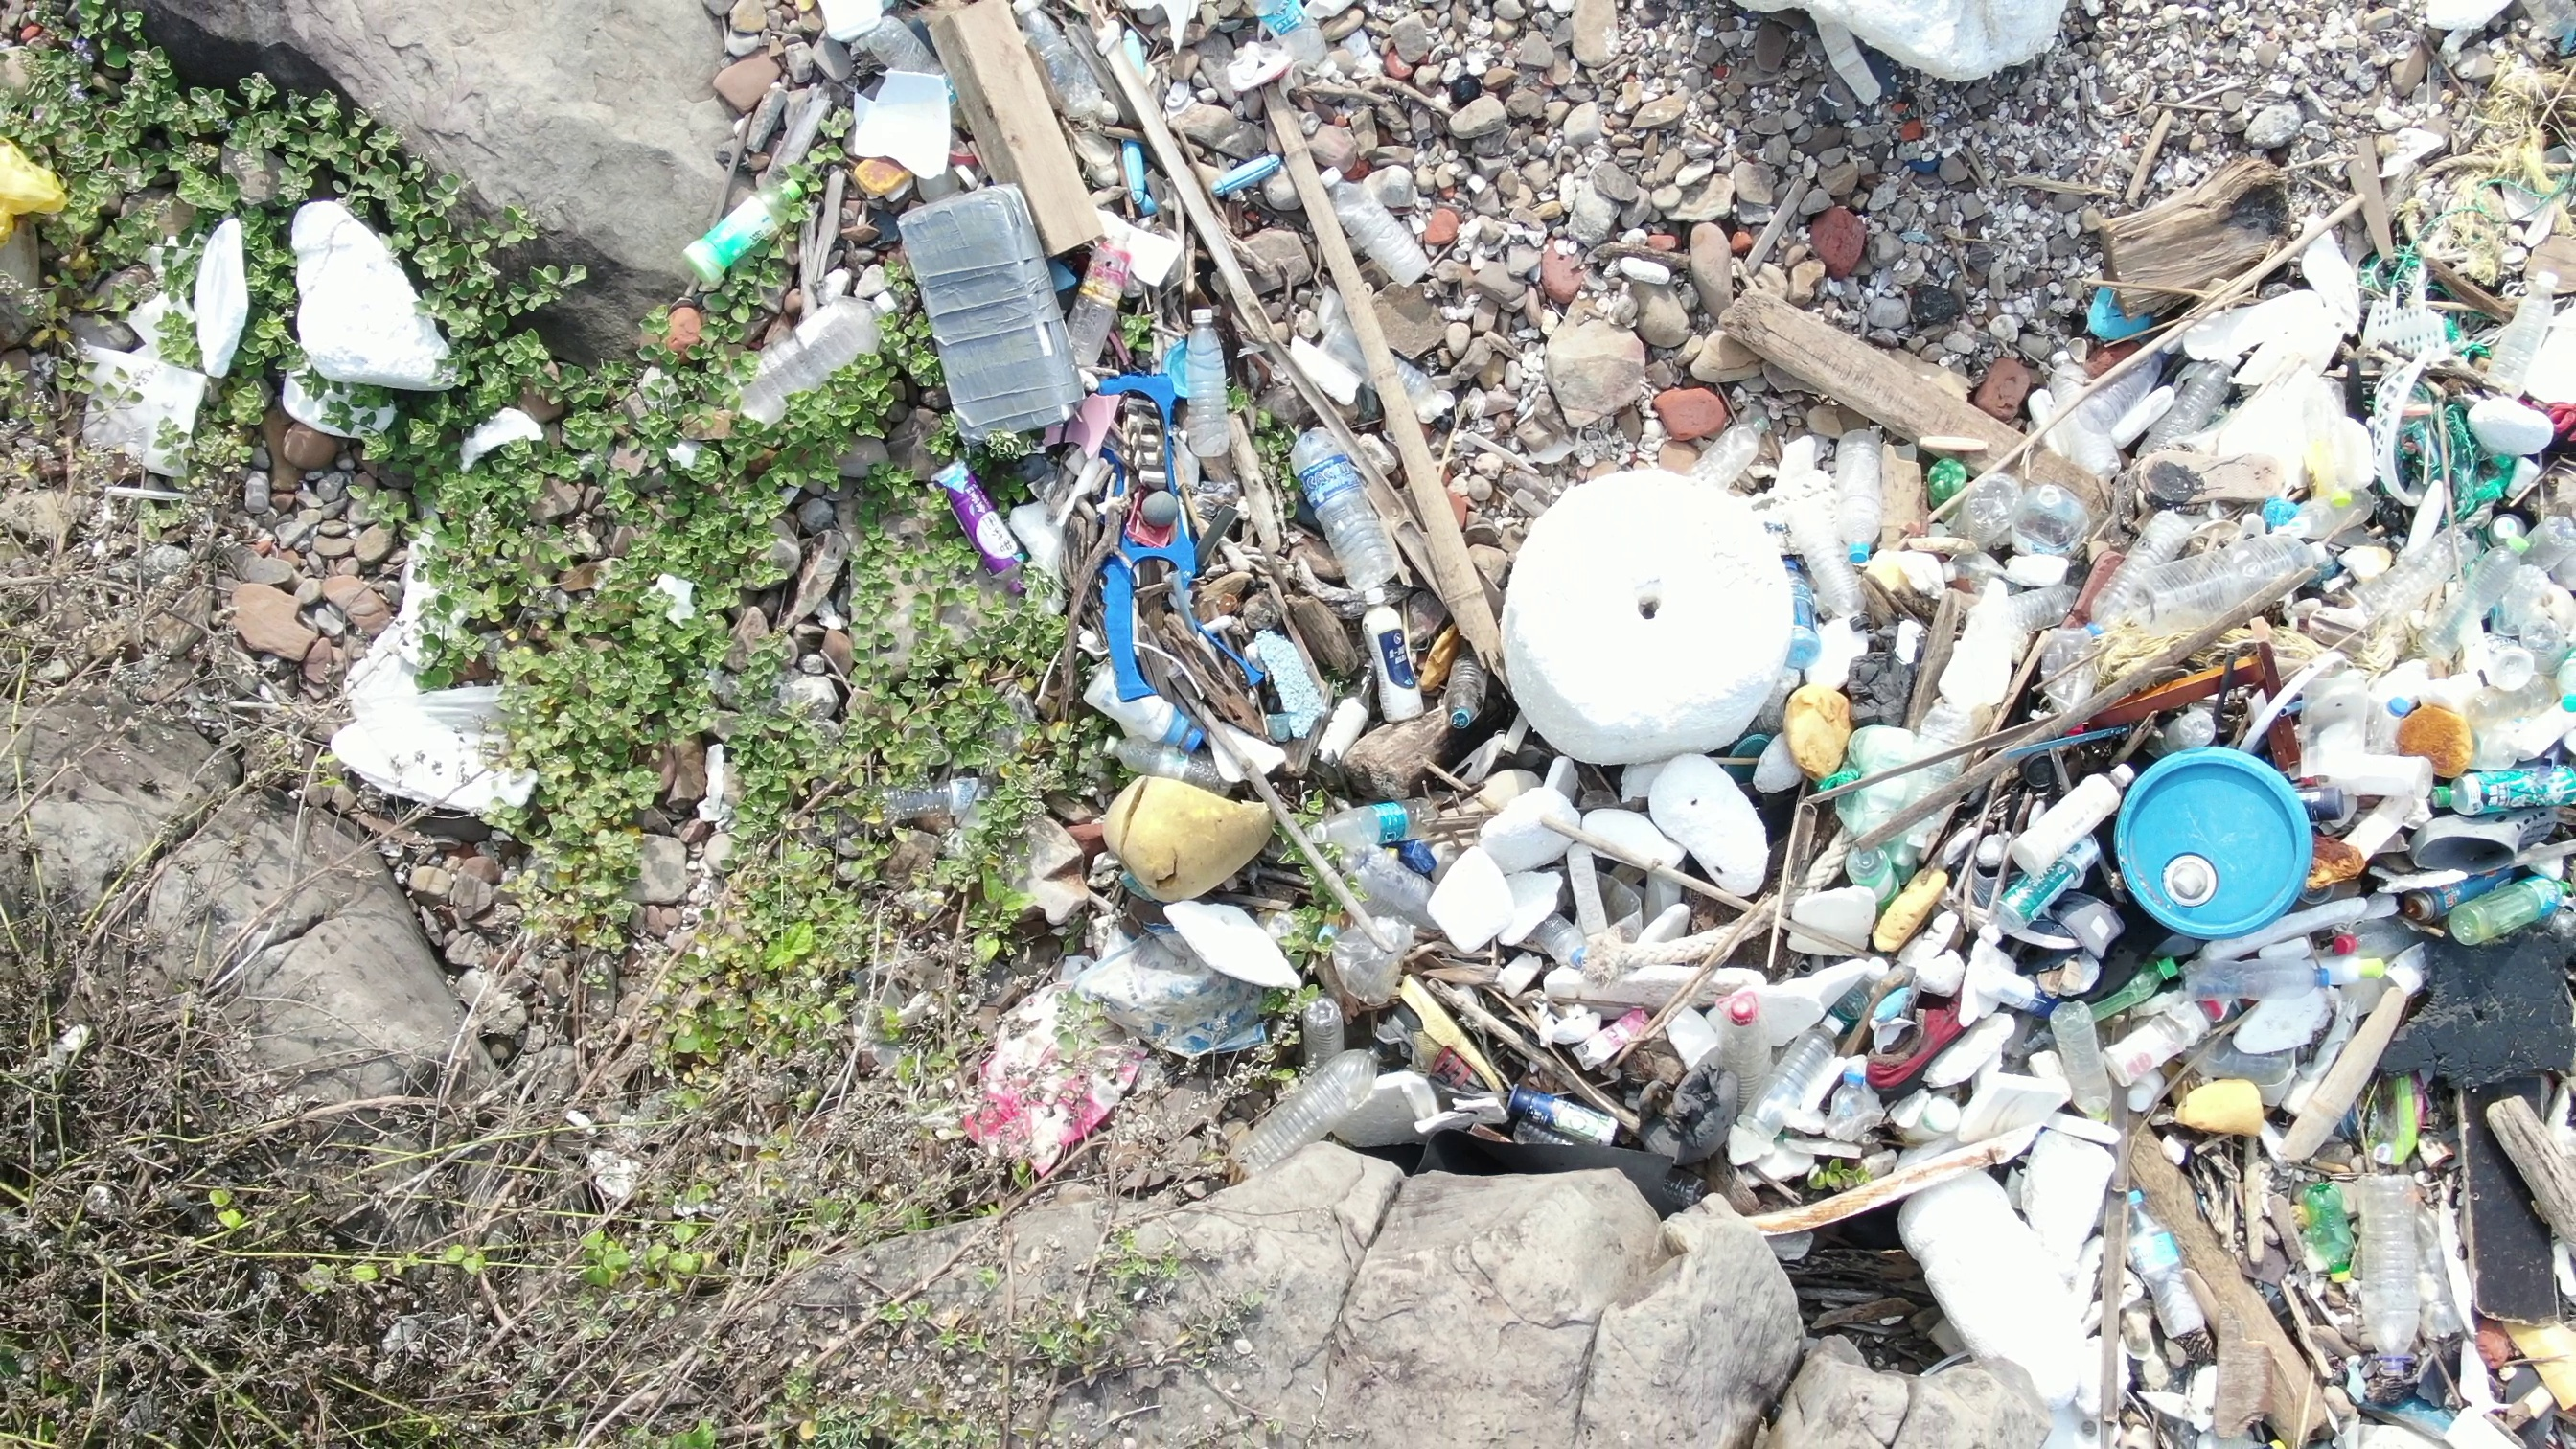bottle: (2089, 527, 2351, 653), (1226, 1035, 1401, 1182), (727, 287, 913, 423), (1284, 423, 1407, 600), (2348, 1166, 2440, 1385), (2111, 1175, 2219, 1357), (1999, 754, 2139, 870), (1315, 168, 1444, 287), (2434, 525, 2548, 660), (927, 460, 1031, 594), (681, 173, 810, 280), (1074, 663, 1214, 759), (1056, 228, 1139, 387), (1760, 1007, 1861, 1136), (2139, 357, 2249, 467), (1350, 577, 1430, 727), (1997, 832, 2116, 931), (2063, 941, 2196, 1030), (2447, 870, 2576, 945), (1093, 722, 1231, 789), (2051, 994, 2118, 1131), (2420, 764, 2576, 823), (1175, 295, 1231, 455), (1235, 2, 1339, 85), (1835, 418, 1890, 573), (2180, 950, 2339, 1003), (1293, 801, 1451, 853), (1776, 531, 1824, 671), (2328, 913, 2445, 968), (1445, 614, 1491, 738), (1721, 991, 1775, 1093), (2305, 1166, 2357, 1272), (1840, 835, 1902, 915), (1300, 1000, 1355, 1074), (1925, 451, 1973, 513)
garbage: (961, 409, 2571, 1449), (722, 11, 1525, 977), (1985, 9, 2576, 640), (315, 373, 695, 826), (62, 184, 587, 492), (2, 119, 103, 274), (1798, 7, 1891, 104)
